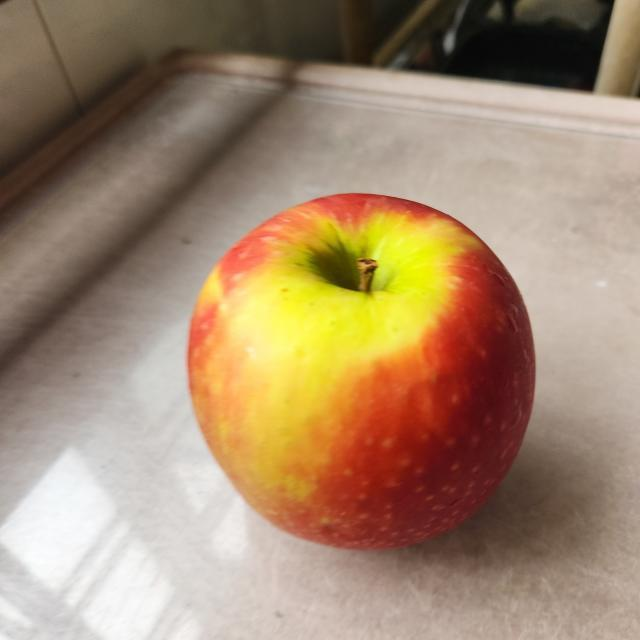apple: (180, 186, 540, 558)
